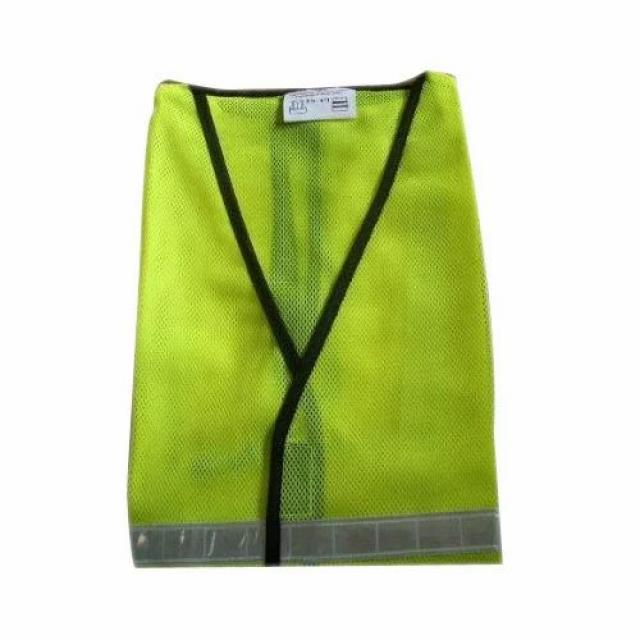Reflective-Jacket: (51, 46, 563, 616)
